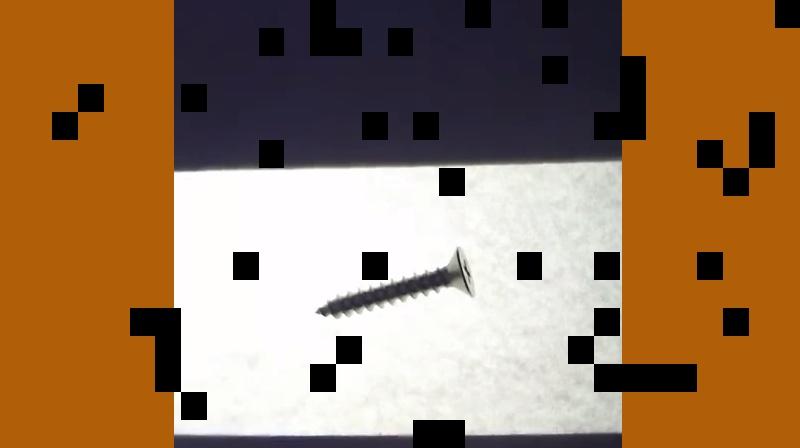S001: (309, 240, 481, 322)
